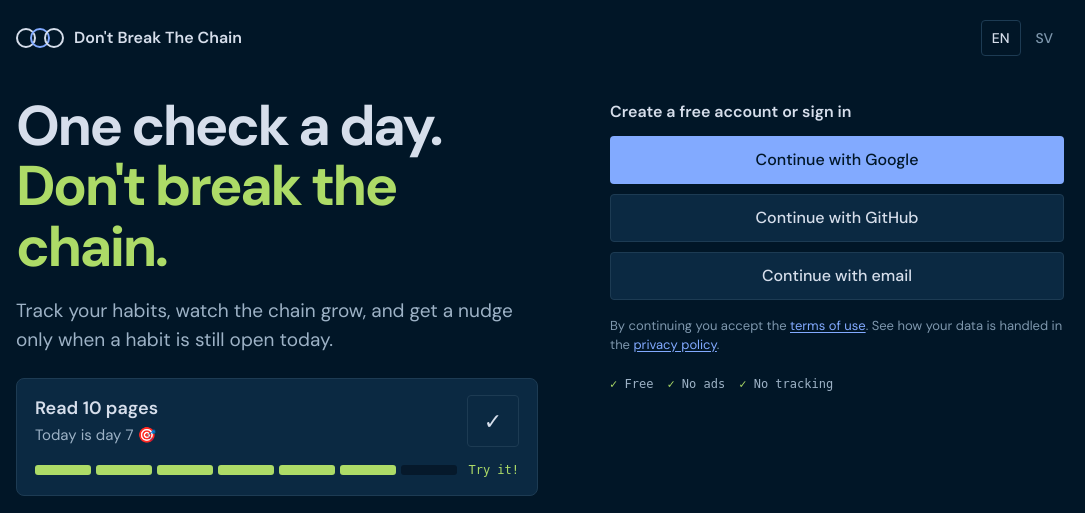
it: Login - User authentication flow › should let a visitor try a habit and switch language before signing in
The image size is (1085, 513).
expect the text "Today is day 7 🎯" is shown: met, box [35, 425, 156, 445]
Click the button named "Mark today as done": (493, 421) [467, 395, 519, 447]
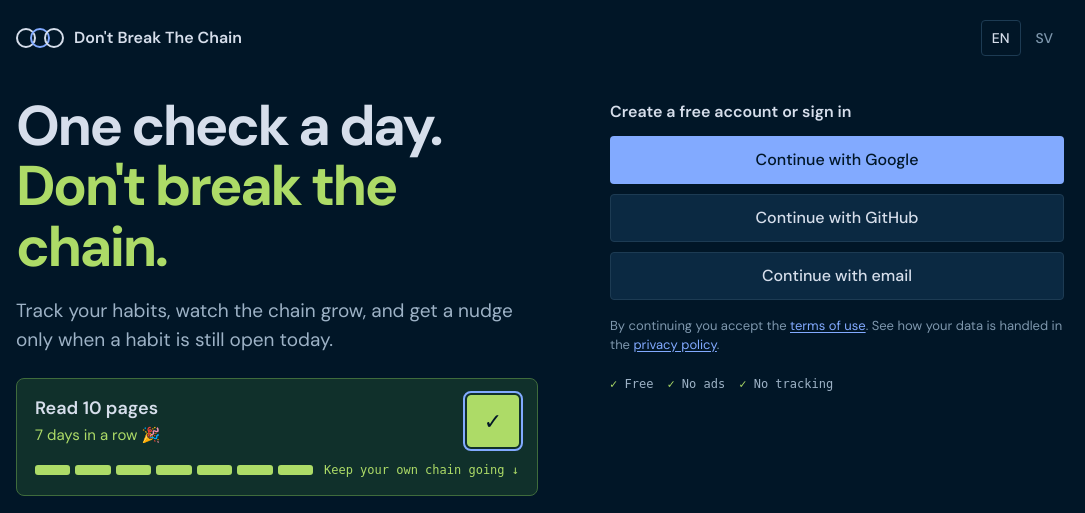
expect the text "7 days in a row 🎉" is shown: met, box [35, 425, 160, 445]
Click the button named "Mark today as done": (493, 421) [467, 395, 519, 447]
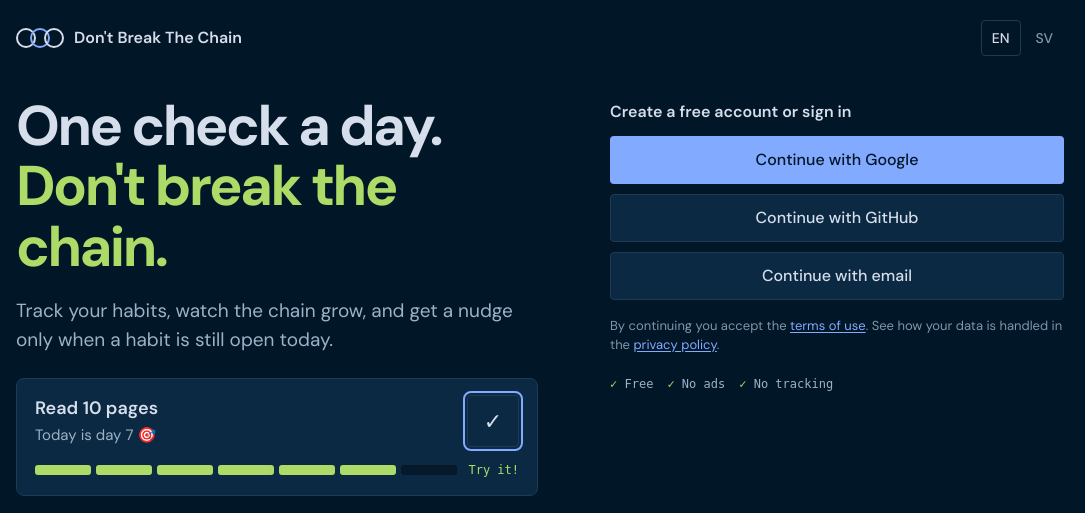
expect the text "Today is day 7 🎯" is shown: met, box [35, 425, 156, 445]
Click the button with aria-label "Svenska": (1044, 38) [1024, 20, 1064, 56]
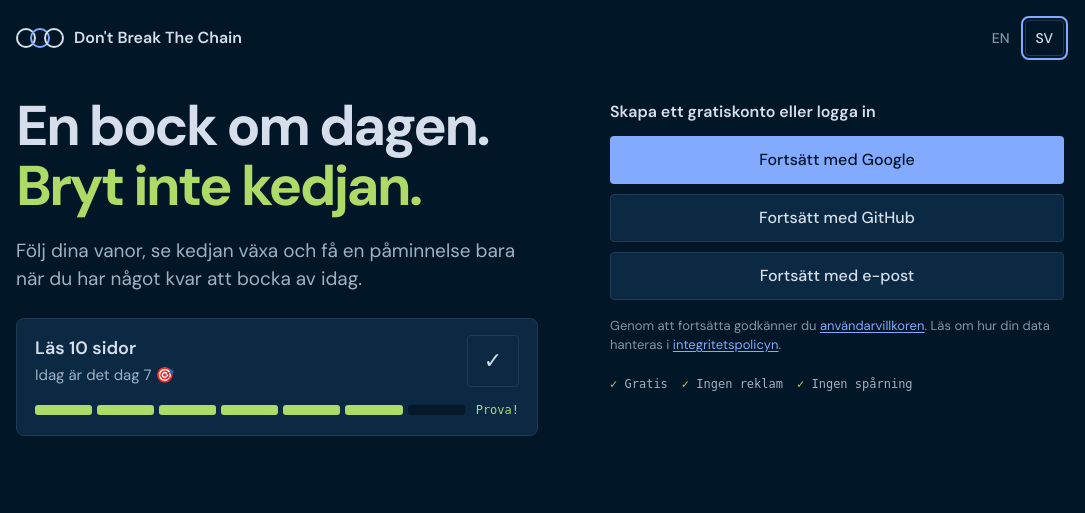
expect the heading "En bock om dagen. Bryt inte kedjan." is shown: met, box [16, 96, 538, 216]
expect the text "Idag är det dag 7 🎯" is shown: met, box [35, 365, 174, 385]
